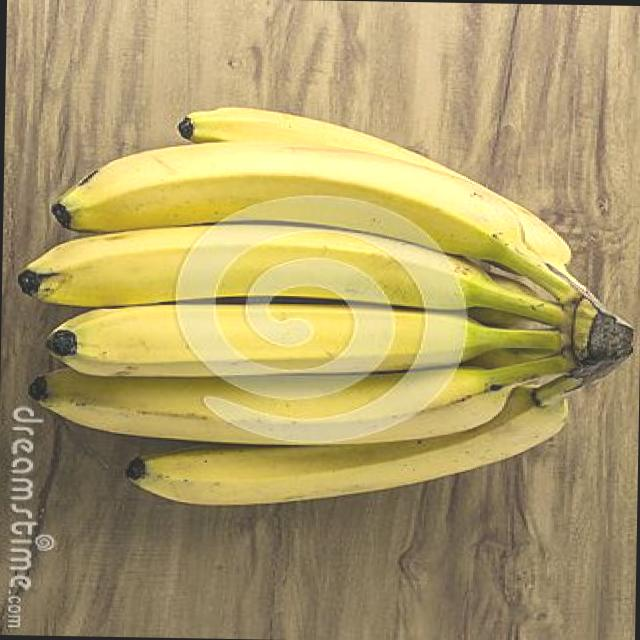Platano: (6, 98, 640, 514)
